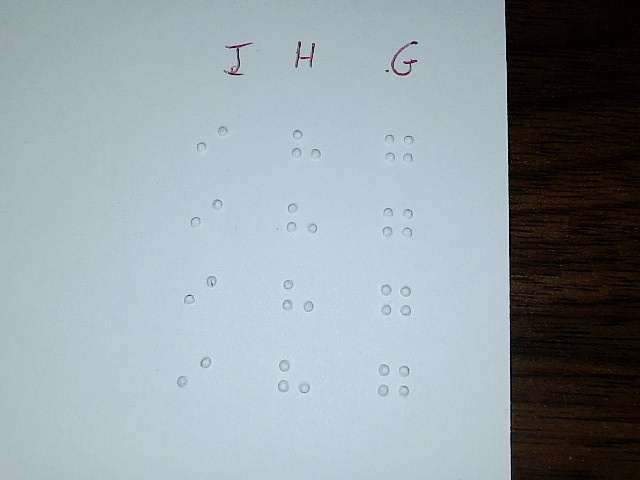G: (383, 126, 416, 178), (381, 199, 414, 251), (380, 276, 413, 328), (378, 357, 411, 409)
H: (276, 353, 311, 409), (282, 271, 315, 325), (290, 121, 323, 173), (286, 194, 319, 246)
I: (176, 347, 212, 405), (190, 189, 223, 245), (184, 264, 217, 320), (196, 116, 229, 168)
